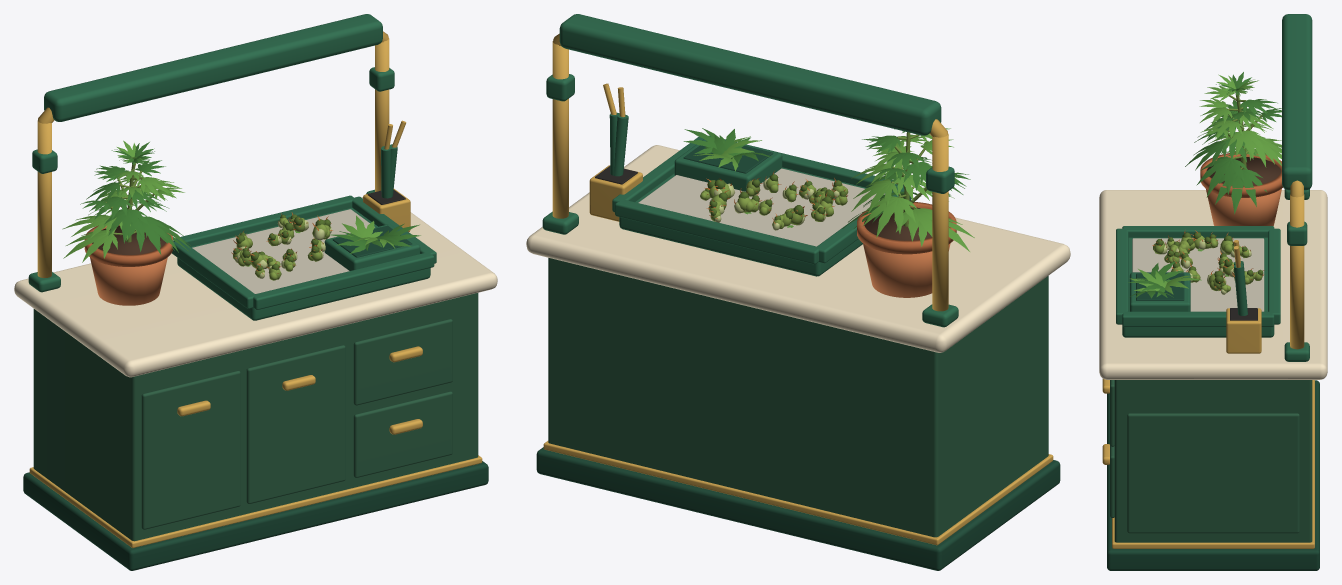
Rendered from harvest_bench_tier1.glb.
The picture shows the model from 3 angles, left to right: view 1: azimuth 30°, elevation 25°; view 2: azimuth 150°, elevation 25°; view 3: azimuth 270°, elevation 25°; orthographic projection. The views are drawn at different scales.
Parts seen in each view (by area): view 1: Body, Top, Drawer0, Drawer1, LightBar, Plinth, Drawer3, Drawer2, TrayFloor, BaseBrass, TrayRim0-0.3, Tray (+14 smaller); view 2: Body, Top, LightBar, Plinth, TrayFloor, BaseBrass, TrayRim00.3, Tray, PotPot, Post-1, Post1, TrimBox (+9 smaller); view 3: EndPanel, Top, Body, Plinth, LightBar, TrayFloor, Tray, Post1, TrayRim0.40, BaseBrass, PotPot, TrayRim-0.40 (+20 smaller).
Part boxes in pixels (box(x1,y1,x2,y2)): Body: box(33, 293, 478, 541); Top: box(14, 197, 497, 377); Drawer0: box(141, 370, 240, 529); Drawer1: box(246, 345, 345, 503); LightBar: box(44, 14, 382, 121); Plinth: box(23, 461, 488, 570); Drawer3: box(353, 319, 452, 405); Drawer2: box(353, 391, 452, 477); TrayFloor: box(192, 209, 374, 293); BaseBrass: box(29, 455, 482, 547); TrayRim0-0.3: box(253, 253, 434, 309); Tray: box(177, 207, 430, 320); Body: box(548, 258, 1048, 537); Top: box(526, 145, 1070, 352); LightBar: box(559, 14, 941, 135); Plinth: box(536, 447, 1060, 570); TrayFloor: box(638, 168, 884, 246); BaseBrass: box(543, 441, 1053, 545); TrayRim00.3: box(615, 200, 818, 264); Tray: box(619, 167, 885, 276); PotPot: box(863, 243, 950, 297); Post-1: box(932, 133, 948, 311); Post1: box(552, 41, 568, 218); TrimBox: box(674, 136, 782, 191); EndPanel: box(1127, 413, 1299, 533); Top: box(1099, 190, 1327, 379); Body: box(1114, 380, 1312, 542); Plinth: box(1107, 380, 1319, 570); LightBar: box(1282, 14, 1312, 190); TrayFloor: box(1132, 238, 1264, 311); Tray: box(1122, 237, 1274, 337); Post1: box(1290, 194, 1304, 349); TrayRim0.40: box(1122, 311, 1274, 327); BaseBrass: box(1112, 380, 1314, 548); PotPot: box(1205, 188, 1281, 225); TrayRim-0.40: box(1122, 226, 1274, 237).
Size of the model in its own units: 1.67 by 1.72 by 0.9.
